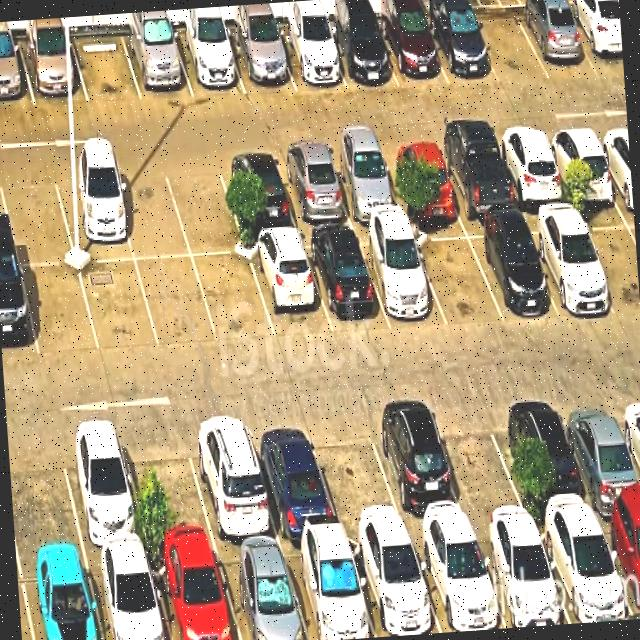empty: (431, 398, 530, 526), (306, 410, 406, 532), (120, 424, 215, 549), (7, 428, 83, 558), (410, 225, 503, 325), (163, 156, 245, 256), (111, 162, 190, 259), (136, 257, 218, 348), (79, 260, 159, 352), (21, 264, 99, 357), (193, 254, 275, 342), (0, 168, 75, 264), (577, 207, 640, 315), (468, 8, 549, 84), (71, 32, 142, 102)
occupied: (366, 403, 471, 532), (184, 413, 279, 544), (245, 415, 340, 538), (504, 394, 596, 520), (57, 425, 148, 552), (535, 515, 634, 623), (557, 391, 640, 514), (473, 523, 570, 628), (410, 528, 506, 632), (521, 210, 616, 314), (281, 537, 375, 640), (347, 535, 441, 637), (463, 220, 557, 320), (214, 544, 309, 640), (246, 234, 332, 340), (302, 230, 390, 332), (356, 228, 447, 325), (149, 547, 240, 640), (52, 165, 134, 262), (86, 550, 171, 640), (19, 555, 103, 640), (434, 136, 518, 217), (217, 152, 298, 235), (273, 149, 353, 228), (324, 145, 404, 223), (514, 6, 598, 79), (380, 141, 461, 216), (493, 130, 570, 207), (543, 126, 620, 201), (423, 10, 499, 84), (375, 11, 448, 88), (323, 18, 398, 88), (122, 30, 193, 100), (172, 30, 246, 97), (18, 35, 88, 105), (596, 509, 640, 619), (273, 25, 347, 90), (226, 28, 295, 93), (564, 2, 624, 75), (0, 262, 38, 360), (0, 39, 34, 107)
